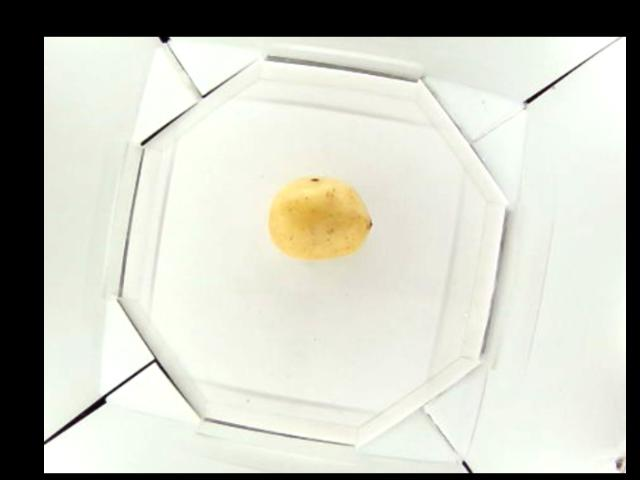Potato: (266, 175, 372, 258)
